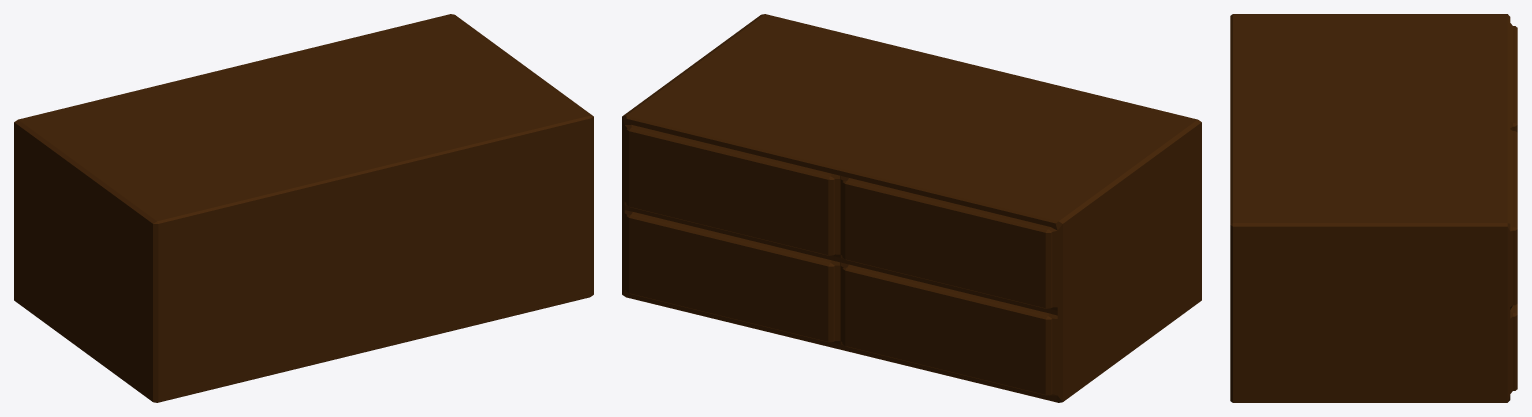
Rendered from movel_pequeno.fbx.
The picture shows the model from 3 angles, left to right: view 1: azimuth 30°, elevation 25°; view 2: azimuth 150°, elevation 25°; view 3: azimuth 270°, elevation 25°; orthographic projection.
Parts seen in each view (by area): view 1: Cube.032; view 2: Cube.032; view 3: Cube.032.
Part boxes in pixels (x1=…): Cube.032: x1=14, y1=14, x2=593, y2=402; Cube.032: x1=622, y1=14, x2=1201, y2=402; Cube.032: x1=1230, y1=14, x2=1517, y2=402.
Size of the model in its own units: 0.609 by 0.2399 by 0.3479.
